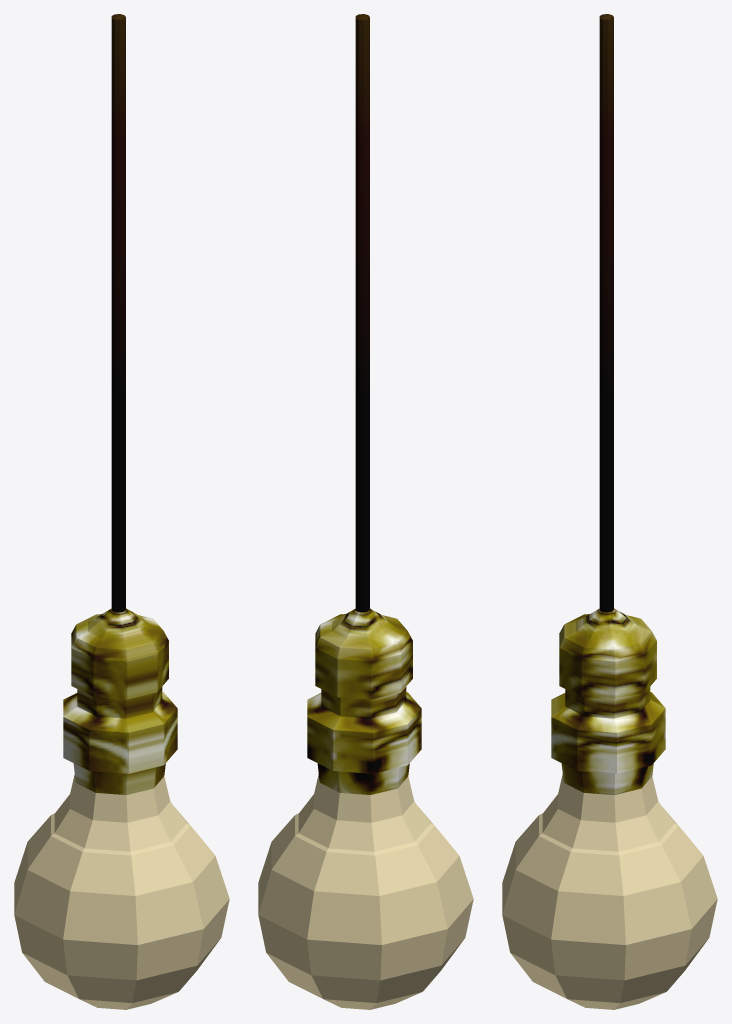
File: CeilingBulp.fbx
3 renders of one model, left to right at view 1: azimuth 30°, elevation 25°; view 2: azimuth 150°, elevation 25°; view 3: azimuth 270°, elevation 25°, orthographic.
Visible parts, largest first — view 1: CeilingBulp; view 2: CeilingBulp; view 3: CeilingBulp.
Part boxes in pixels (bbox=[...]): CeilingBulp: bbox=[14, 14, 229, 1009]; CeilingBulp: bbox=[258, 14, 473, 1009]; CeilingBulp: bbox=[502, 14, 717, 1009].
Size of the model in its own units: 0.7424 by 3.69 by 0.7311.
2 materials, 1 textured.
